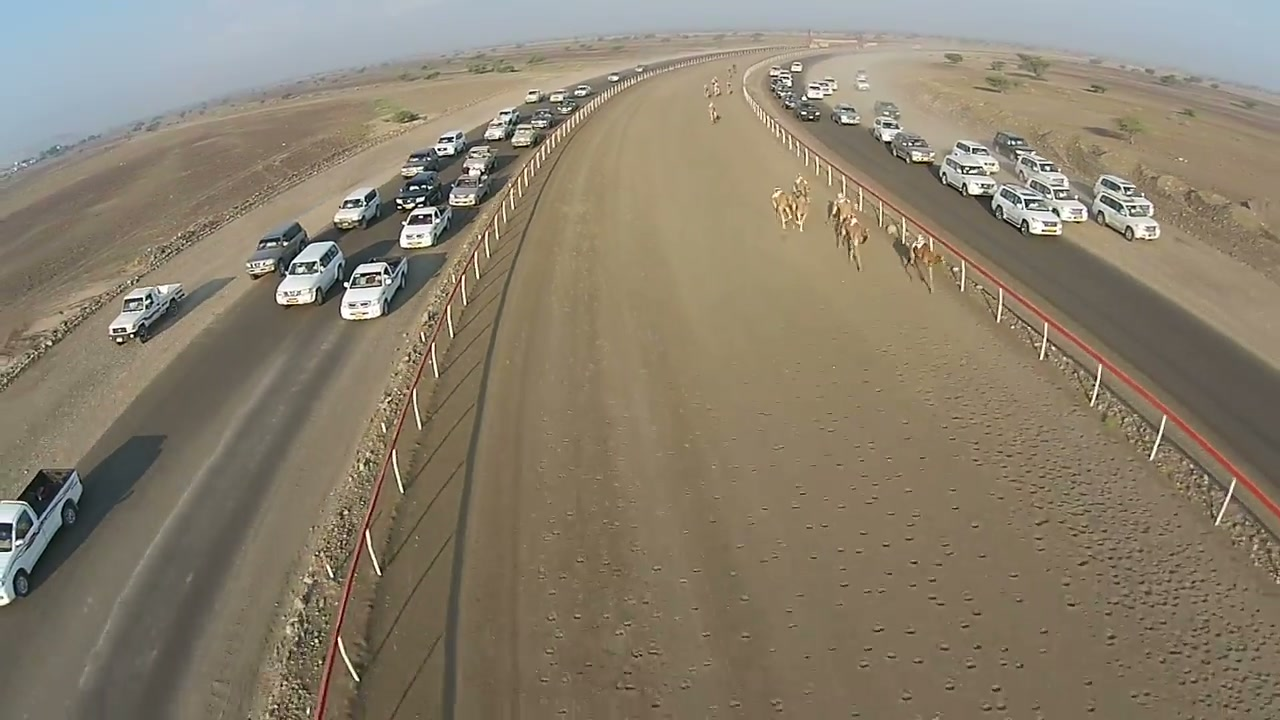animal_footprint: (853, 262, 1271, 706), (799, 389, 1090, 719), (548, 475, 808, 713)
